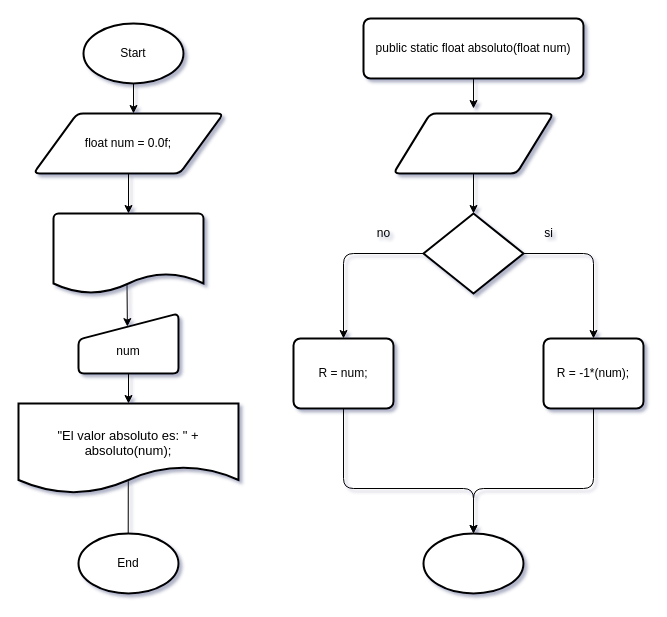
The diagram is 667 pixels wide and 617 high, and some of its shapes have lost their labels. Each missing label, with the centre of its shape:
"Digite un numero: ": point 128,253
float R = 0.0f;: point 473,143
num < 0: point 473,253
Return R;: point 473,563
